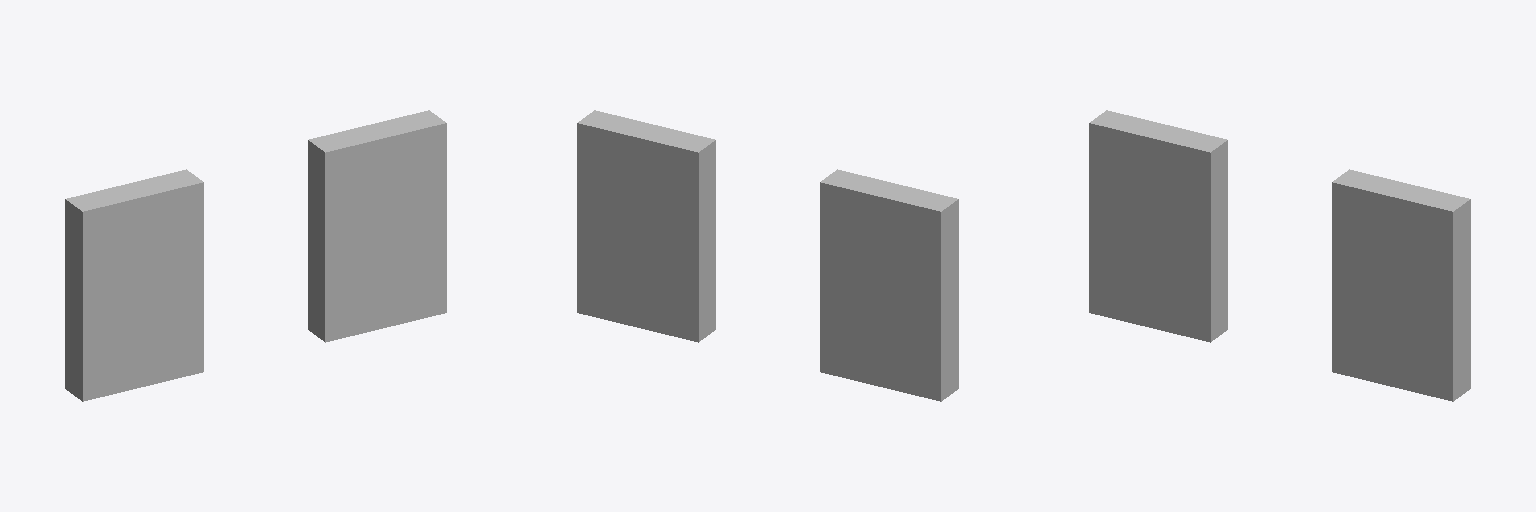
Rendered from construct_eyes_unimpressed.obj.
3 views of the same model, side by side, from view 1: azimuth 30°, elevation 25°; view 2: azimuth 150°, elevation 25°; view 3: azimuth 330°, elevation 25° (orthographic).
Visible parts, largest first — view 1: EYES_UNIMPRESSED_Cube.035; view 2: EYES_UNIMPRESSED_Cube.035; view 3: EYES_UNIMPRESSED_Cube.035.
Part boxes in pixels (x1,y1,x2,y2): EYES_UNIMPRESSED_Cube.035: (65,110,446,401); EYES_UNIMPRESSED_Cube.035: (577,110,958,401); EYES_UNIMPRESSED_Cube.035: (1089,110,1470,401).
Size of the model in its own units: 0.1875 by 0.0935 by 0.0156.